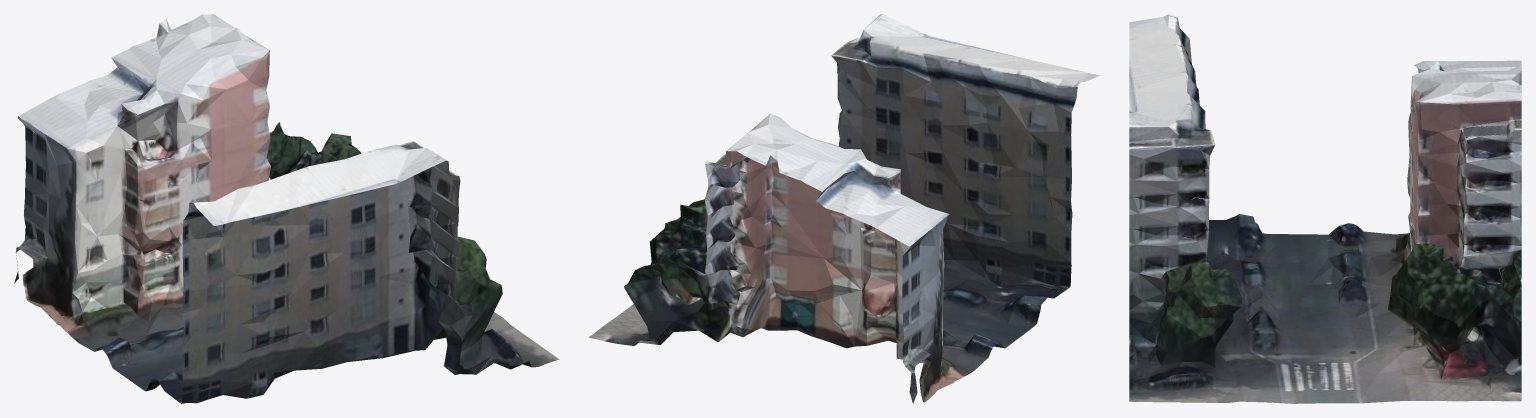
File: helsinki-4-6.glb
The picture shows the model from 3 angles, left to right: view 1: azimuth 30°, elevation 25°; view 2: azimuth 150°, elevation 25°; view 3: azimuth 270°, elevation 25°; orthographic projection. The views are drawn at different scales.
Size of the model in its own units: 31.75 by 21.44 by 31.75.
1 material, 1 textured.
